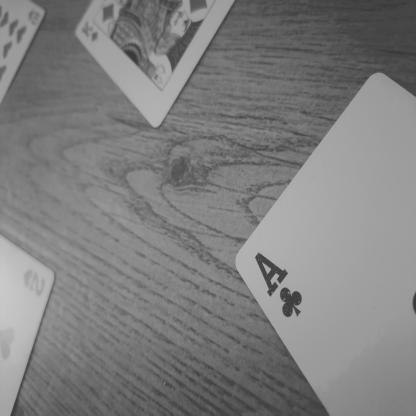AC: (244, 224, 314, 338)
